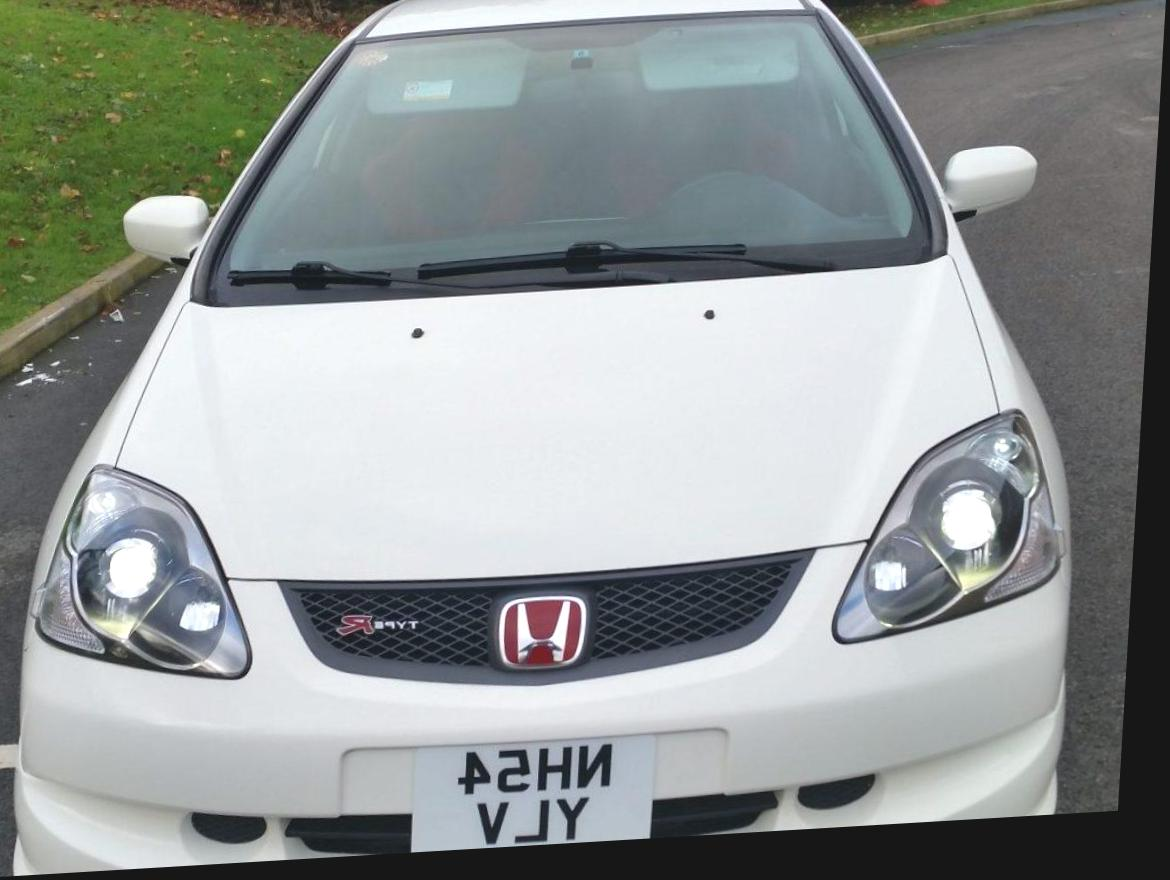License_Plate: (398, 725, 669, 852)
